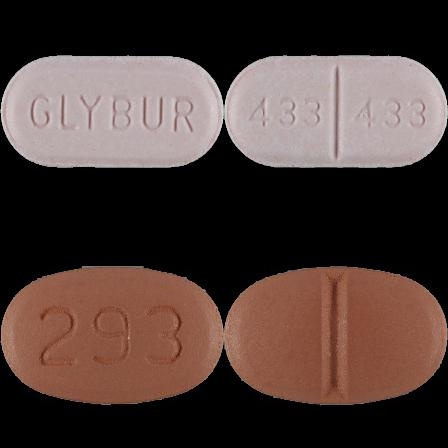55289-606: (0, 0, 224, 224)
